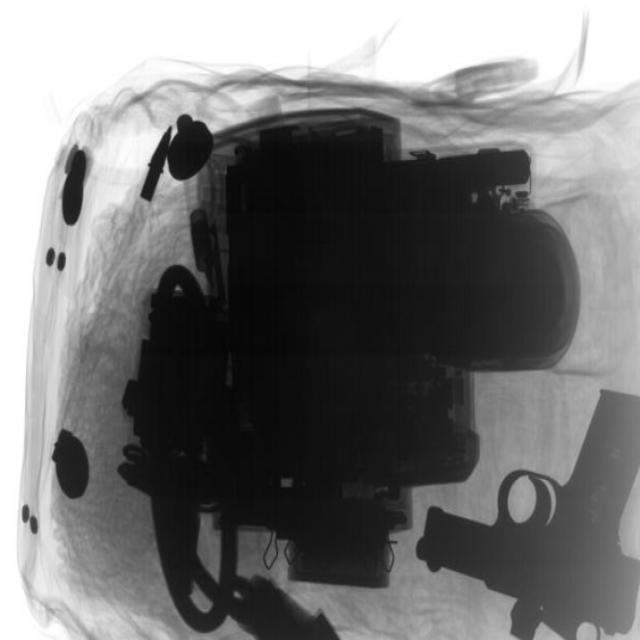GUN: (419, 394, 640, 636), (110, 473, 393, 640)
